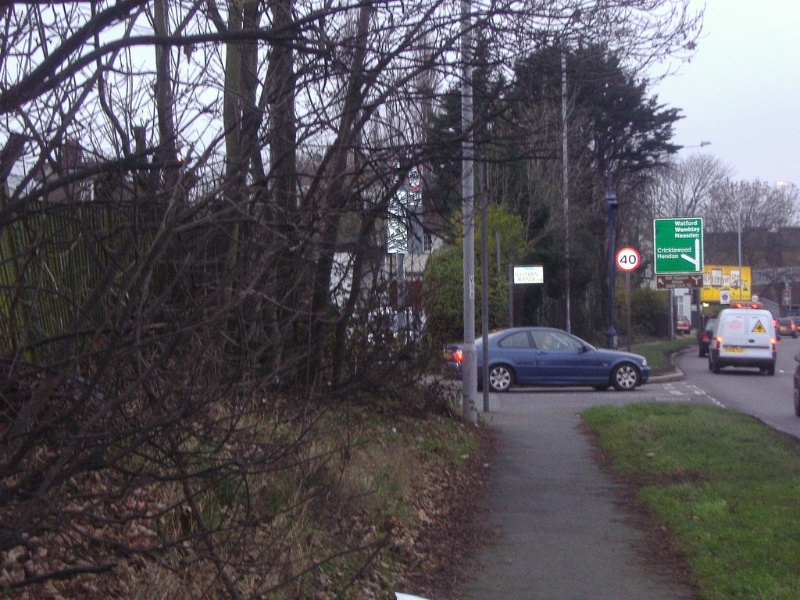speed_limit_40: (613, 244, 644, 274)
